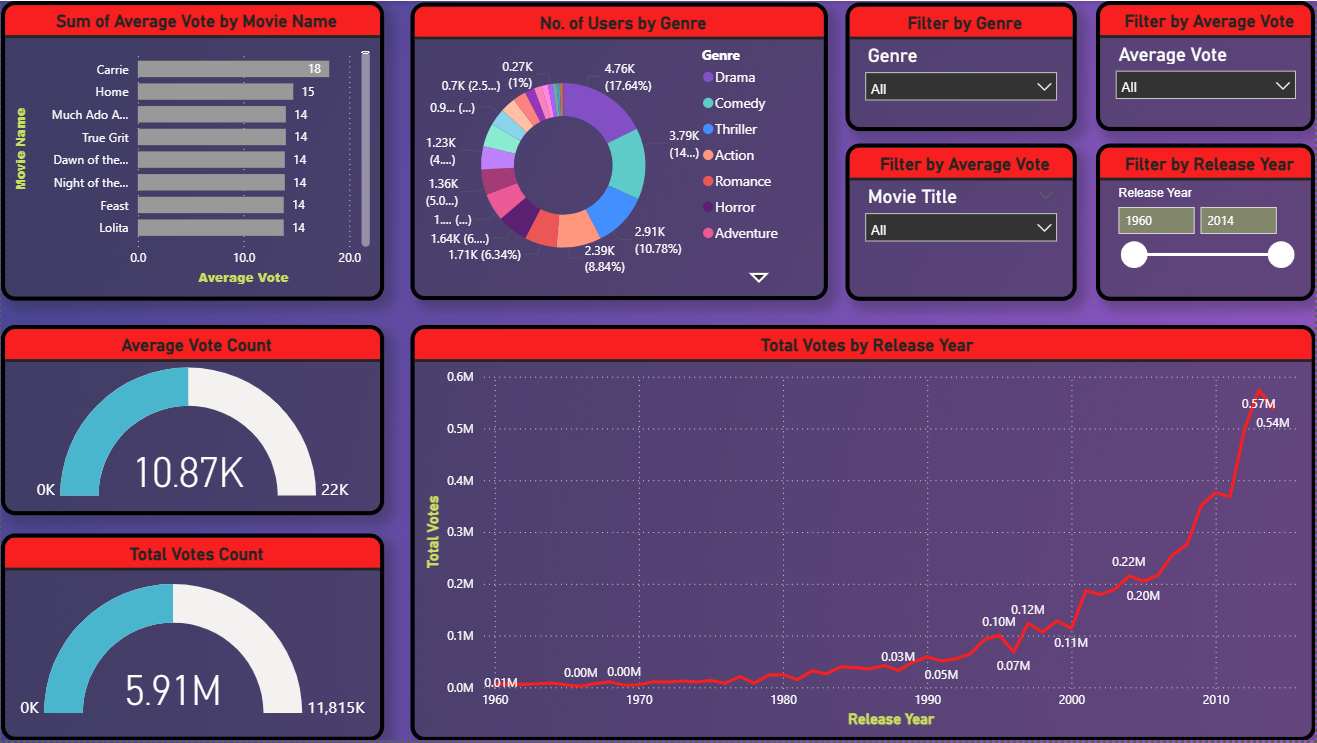

This screenshot's page, from the dashboard's own definition file:
{"tool":"powerbi","page":{"name":"Page 1","canvas":[1280,720],"ordinal":0},"visuals":[{"type":"donutChart","title":"No. of Users by Genre","fields":{"Category":["GenrePopularity.Genre"],"Y":["CountNonNull(GenrePopularity.id)"]},"box":[398.3,1.7,406.7,290],"z":0},{"type":"lineChart","title":"Total Votes by Release Year","fields":{"Category":["ActivityTrend.release_year"],"Y":["Sum(ActivityTrend.TotalVotes)"]},"box":[398.3,315,881.7,405],"z":1000},{"type":"gauge","title":"Average Vote Count","fields":{"Y":["CountNonNull(RatingDistribution.Average Vote)"]},"box":[0,315,373.3,185],"z":2000},{"type":"slicer","title":"Filter by Genre","fields":{"Values":["GenrePopularity.Genre"]},"box":[823.3,1.7,225,125],"z":3000},{"type":"slicer","title":"Filter by Release Year","fields":{"Values":["ActivityTrend.release_year"]},"box":[1066.7,138.3,213.3,153.3],"z":4000},{"type":"barChart","title":"Sum of Average Vote by Movie Name","fields":{"Category":["TopRatedMovies.original_title"],"Y":["Sum(TopRatedMovies.Average Vote)"]},"box":[0,0,373.3,291.7],"z":5000},{"type":"gauge","title":"Total Votes Count","fields":{"Y":["Sum(ActivityTrend.Total Votes)"]},"box":[0,518.3,373.3,201.7],"z":6000},{"type":"slicer","title":"Filter by Average Vote","fields":{"Values":["RatingDistribution.Average Vote"]},"box":[1066.7,0,213.3,126.7],"z":7000},{"type":"slicer","title":"Filter by Average Vote","fields":{"Values":["TopRatedMovies.Movie Title"]},"box":[823.3,138.3,225,153.3],"z":8000}]}

Visuals, with their boxes in screenshot pixels (x1, y1, x2, y2), scaled from the page's 1280x720 canvas onto the 1317x743 screenshot:
"No. of Users by Genre" donutChart: l=410, t=2, r=828, b=301
"Total Votes by Release Year" lineChart: l=410, t=325, r=1316, b=742
"Average Vote Count" gauge: l=0, t=325, r=384, b=516
"Filter by Genre" slicer: l=847, t=2, r=1079, b=131
"Filter by Release Year" slicer: l=1098, t=143, r=1316, b=301
"Sum of Average Vote by Movie Name" barChart: l=0, t=0, r=384, b=301
"Total Votes Count" gauge: l=0, t=535, r=384, b=742
"Filter by Average Vote" slicer: l=1098, t=0, r=1316, b=131
"Filter by Average Vote" slicer: l=847, t=143, r=1079, b=301
